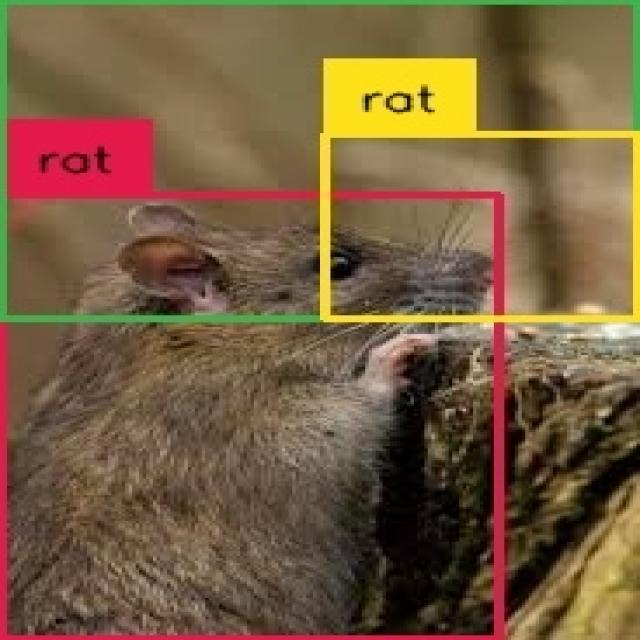rat: (0, 195, 501, 639), (0, 0, 640, 320), (327, 133, 640, 318)
